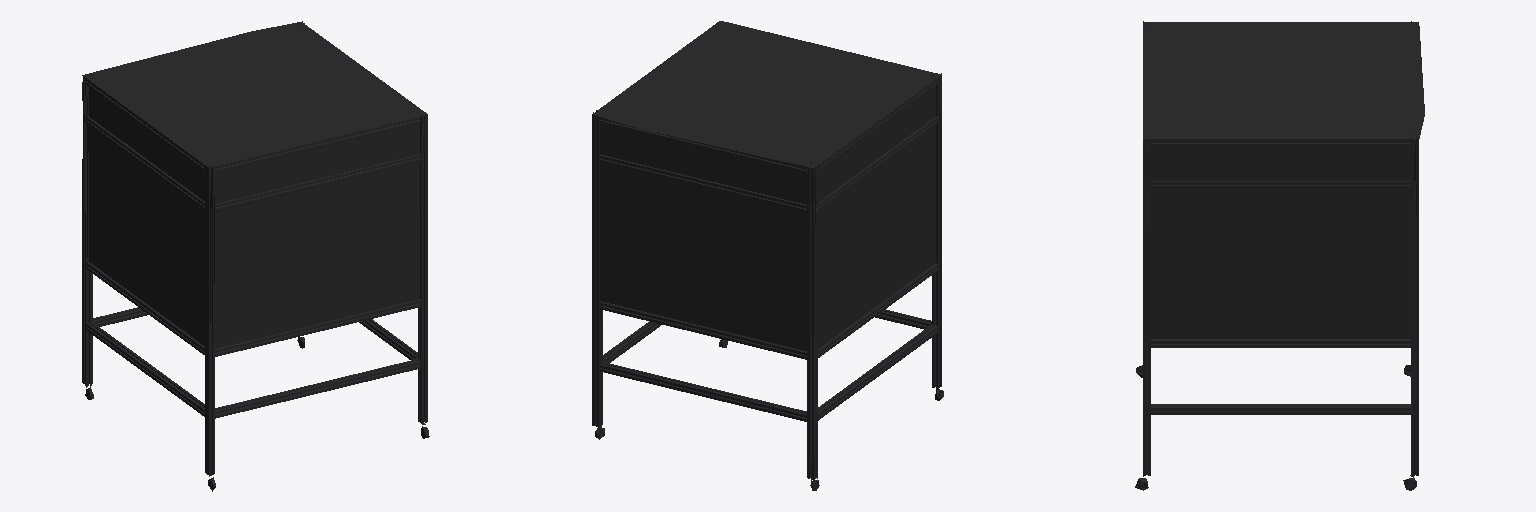
robot.urdf — eva_arm:
<?xml version="1.0" ?>
<!-- 
-   This file has been modified by hand after being created from the 
      eva_with_box_without_rail.xacro file.
-   Box related properties are modified afterwards.
-   Box appears solid in rviz and transparent in Gazebo - use the 
      table_link in case you want to visualize Eva in rviz and gazebo.
-->
<robot name="eva_arm">
    <!-- ros_control plugin -->
    <gazebo>
        <plugin filename="libgazebo_ros_control.so" name="gazebo_ros_control">
            <robotNamespace>/eva</robotNamespace>
            <robotSimType>gazebo_ros_control/DefaultRobotHWSim</robotSimType>
        </plugin>
    </gazebo>

    <!-- Gazebo-specific material settings to force transparency of the box in Gazebo-->
    <gazebo reference="box">
      <material>Gazebo/GreyTransparent</material>
    </gazebo>

    <!-- all the links of the robotic arm -->
    <gazebo reference="link1">
        <mu1>0.5</mu1>
        <mu2>0.5</mu2>
        <selfCollide>true</selfCollide>
    </gazebo>
    <gazebo reference="link2">
        <mu1>0.5</mu1>
        <mu2>0.5</mu2>
        <selfCollide>true</selfCollide>
    </gazebo>
    <gazebo reference="link3">
        <mu1>0.5</mu1>
        <mu2>0.5</mu2>
        <selfCollide>true</selfCollide>
    </gazebo>
    <gazebo reference="link4">
        <mu1>0.5</mu1>
        <mu2>0.5</mu2>
        <selfCollide>true</selfCollide>
    </gazebo>
    <gazebo reference="link5">
        <mu1>0.5</mu1>
        <mu2>0.5</mu2>
        <selfCollide>true</selfCollide>
    </gazebo>
    <gazebo reference="link6">
        <mu1>0.5</mu1>
        <mu2>0.5</mu2>
        <selfCollide>true</selfCollide>
    </gazebo>

    <!-- controllers for the robotic arm -->
    <transmission name="trans_joint01">
        <type>transmission_interface/SimpleTransmission</type>
        <joint name="joint01">
            <hardwareInterface>hardware_interface/EffortJointInterface</hardwareInterface>
        </joint>
        <actuator name="joint01_motor">
            <hardwareInterface>hardware_interface/EffortJointInterface</hardwareInterface>
            <mechanicalReduction>1</mechanicalReduction>
        </actuator>
    </transmission>
    <transmission name="trans_joint12">
        <type>transmission_interface/SimpleTransmission</type>
        <joint name="joint12">
            <hardwareInterface>hardware_interface/EffortJointInterface</hardwareInterface>
        </joint>
        <actuator name="joint12_motor">
            <hardwareInterface>hardware_interface/EffortJointInterface</hardwareInterface>
            <mechanicalReduction>1</mechanicalReduction>
        </actuator>
    </transmission>
    <transmission name="trans_joint23">
        <type>transmission_interface/SimpleTransmission</type>
        <joint name="joint23">
            <hardwareInterface>hardware_interface/EffortJointInterface</hardwareInterface>
        </joint>
        <actuator name="joint23_motor">
            <hardwareInterface>hardware_interface/EffortJointInterface</hardwareInterface>
            <mechanicalReduction>1</mechanicalReduction>
        </actuator>
    </transmission>
    <transmission name="trans_joint34">
        <type>transmission_interface/SimpleTransmission</type>
        <joint name="joint34">
            <hardwareInterface>hardware_interface/EffortJointInterface</hardwareInterface>
        </joint>
        <actuator name="joint34_motor">
            <hardwareInterface>hardware_interface/EffortJointInterface</hardwareInterface>
            <mechanicalReduction>1</mechanicalReduction>
        </actuator>
    </transmission>
    <transmission name="trans_joint45">
        <type>transmission_interface/SimpleTransmission</type>
        <joint name="joint45">
            <hardwareInterface>hardware_interface/EffortJointInterface</hardwareInterface>
        </joint>
        <actuator name="joint45_motor">
            <hardwareInterface>hardware_interface/EffortJointInterface</hardwareInterface>
            <mechanicalReduction>1</mechanicalReduction>
        </actuator>
    </transmission>
    <transmission name="trans_joint56">
        <type>transmission_interface/SimpleTransmission</type>
        <joint name="joint56">
            <hardwareInterface>hardware_interface/EffortJointInterface</hardwareInterface>
        </joint>
        <actuator name="joint56_motor">
            <hardwareInterface>hardware_interface/EffortJointInterface</hardwareInterface>
            <mechanicalReduction>1</mechanicalReduction>
        </actuator>
    </transmission>
    
    <!-- World link -->
    <link name="world"/>

    <!-- box without collision properties {Box height is 0.8m}
         No collision used: 
         As robotic arm is supposed to be inside the box, it is always in 
         collision with the box and never stays intact in Gazebo 
    -->

    <link name="box">
      <visual>
        <origin rpy="1.5707963267948966 0 0" xyz="0 0 0"/>
        <geometry>
          <mesh filename="package://eva_description/meshes/box.dae"/>
        </geometry>
        <material name="semi_transparent_material">
          <color rgba="0.2 0.2 0.2 0"/>
        </material>
      </visual>
      <inertial>
        <origin rpy="1.5707963267948966 0 0" xyz="0 0 0"/>
        <mass value="1.0"/>
        <inertia ixx="0.01" ixy="0.0" ixz="0.0" iyy="0.01" iyz="0.0" izz="0.01"/>
      </inertial>
    </link>

    <joint name="connect_world_and_box" type="fixed">
      <child link="box"/>
      <parent link="world"/>
      <origin rpy="0 0 0" xyz="0 0 0"/>
    </joint>

<!-- Table link: 
-    It could be used instead of the box for visualization in rviz 
-->
  <!-- <link name="table_link">
    <visual>
      <origin rpy="0 0 0" xyz="0 0.75 0.8"/> 
      <geometry>
        <box size="2.0 1.5 0.05"/> 
      </geometry>
      <material name="wood">
        <color rgba="0.55 0.27 0.07 0.1"/> 
      </material>
    </visual>
    <inertial>
      <origin rpy="0 0 0" xyz="0 0.75 0.8"/> 
      <mass value="10.0"/> 
      <inertia ixx="0.1" ixy="0.0" ixz="0.0" iyy="0.1" iyz="0.0" izz="0.1"/> 
    </inertial>
  </link>

  <joint name="world_to_table_joint" type="fixed">
    <parent link="world"/>
    <child link="table_link"/>
    <origin xyz="0.0 0.0 0.0" rpy="0 0 0"/> 
  </joint>

  <gazebo reference="table_link">
      <material>Gazebo/GreyTransparent</material>
  </gazebo> -->

  <!-- Table link properties ends here -->

    <!-- All the links and joints of the Robotic Arm -->
    <link name="base_link">
      <gravity>0</gravity>
      <inertial>
        <origin rpy="0 0 0" xyz="-0.00079256 0.072247 -4.2906E-06" />
        <mass value="2.2163" />
        <inertia ixx="0.0065308" ixy="-2.9126E-05" ixz="-1.2386E-06" iyy="0.0051738" iyz="-5.4387E-07" izz="0.0065939" />
      </inertial>
      <visual>
        <origin rpy="0 0 0" xyz="0 0 0" />
        <geometry>
          <mesh filename="package://eva_description/meshes/base_link.STL" />
        </geometry>
        <material name="">
          <color rgba="0.79216 0.81961 0.93333 1" />
        </material>
      </visual>
      <collision>
        <origin rpy="0 0 0" xyz="0 0 0" />
        <geometry>
          <mesh filename="package://eva_description/meshes/base_link.STL" />
        </geometry>
      </collision>
    </link>

    <joint name="box_to_base_link" type="fixed">
      <origin rpy="0 0 0" xyz="-0.3 0.7 0.8" /> 
       <parent link="box" />  <!-- change "box" to "table_link" -->
      <child link="base_link" />
    </joint>

    <link name="link1">
        <gravity>0</gravity>
        <inertial>
            <origin rpy="0 0 0" xyz="0.033792 0.10158 0.028608" />
            <mass value="1.3679" />
            <inertia ixx="0.0024595" ixy="-0.0008869" ixz="-0.00013245" iyy="0.0021904" iyz="-0.00017806" izz="0.00385" />
        </inertial>
        <visual>
            <origin rpy="0 0 0" xyz="0 0 0" />
            <geometry>
                <mesh filename="package://eva_description/meshes/link1.STL" />
            </geometry>
            <material name="">
                <color rgba="0.79216 0.81961 0.93333 1" />
            </material>
        </visual>
        <collision>
            <origin rpy="0 0 0" xyz="0 0 0" />
            <geometry>
                <mesh filename="package://eva_description/meshes/link1.STL" />
            </geometry>
        </collision>
    </link>
    <joint name="joint01" type="revolute">
        <origin rpy="1.5708 0 0" xyz="0 0 0.151" />
        <parent link="base_link" />
        <child link="link1" />
        <axis xyz="0 1 0" />
        <limit effort="100" lower="-3.12414" upper="3.12414" velocity="2.16" />
        <dynamics damping="0.8" friction="10" />
    </joint>

    <link name="link2">
        <gravity>0</gravity>
        <inertial>
            <origin rpy="0 0 0" xyz="-0.011054 0.095532 -0.041105" />
            <mass value="2.1464" />
            <inertia ixx="0.019567" ixy="0.00037463" ixz="0.00015985" iyy="0.0033754" iyz="-7.8572E-05" izz="0.021425" />
        </inertial>
        <visual>
            <origin rpy="0 0 0" xyz="0 0 0" />
            <geometry>
                <mesh filename="package://eva_description/meshes/link2.STL" />
            </geometry>
            <material name="">
                <color rgba="0.79216 0.81961 0.93333 1" />
            </material>
        </visual>
        <collision>
            <origin rpy="0 0 0" xyz="0 0 0" />
            <geometry>
                <mesh filename="package://eva_description/meshes/link2.STL" />
            </geometry>
        </collision>
    </link>
    <joint name="joint12" type="revolute">
        <origin rpy="0 0 0" xyz="0.056 0.1323 0" />
        <parent link="link1" />
        <child link="link2" />
        <axis xyz="0 0 1" />
        <limit effort="150" lower="-2.70526" upper="1.22173" velocity="1.0" />
        <dynamics damping="0.8" friction="10" />
    </joint>

    <link name="link3">
        <gravity>0</gravity>
        <inertial>
            <origin rpy="0 0 0" xyz="-0.017599 0.021043 0.028835" />
            <mass value="1.0412" />
            <inertia ixx="0.0014019" ixy="0.0004906" ixz="-9.7827E-05" iyy="0.0013971" iyz="0.00010907" izz="0.0022277" />
        </inertial>
        <visual>
            <origin rpy="0 0 0" xyz="0 0 0" />
            <geometry>
                <mesh filename="package://eva_description/meshes/link3.STL" />
            </geometry>
            <material name="">
                <color rgba="0.79216 0.81961 0.93333 1" />
            </material>
        </visual>
        <collision>
            <origin rpy="0 0 0" xyz="0 0 0" />
            <geometry>
                <mesh filename="package://eva_description/meshes/link3.STL" />
            </geometry>
        </collision>
    </link>
    <joint name="joint23" type="revolute">
        <origin rpy="0 0 0" xyz="0 0.205 0" />
        <parent link="link2" />
        <child link="link3" />
        <axis xyz="0 0 1" />
        <limit effort="100" lower="-2.79253" upper="0.785398" velocity="1" />
        <dynamics damping="0.8" friction="10" />
    </joint>

    <link name="link4">
        <gravity>0</gravity>
        <inertial>
            <origin rpy="0 0 0" xyz="6.3485E-05 0.082453 -0.0083688" />
            <mass value="1.2151" />
            <inertia ixx="0.0030376" ixy="-7.1559E-06" ixz="8.224E-07" iyy="0.0010632" iyz="0.00042179" izz="0.0034635" />
        </inertial>
        <visual>
            <origin rpy="0 0 0" xyz="0 0 0" />
            <geometry>
                <mesh filename="package://eva_description/meshes/link4.STL" />
            </geometry>
            <material name="">
                <color rgba="0.79216 0.81961 0.93333 1" />
            </material>
        </visual>
        <collision>
            <origin rpy="0 0 0" xyz="0 0 0" />
            <geometry>
                <mesh filename="package://eva_description/meshes/link4.STL" />
            </geometry>
        </collision>
    </link>
    <joint name="joint34" type="revolute">
        <origin rpy="3.1416 0 3.1416" xyz="-0.056 0.09401 0" />
        <parent link="link3" />
        <child link="link4" />
        <axis xyz="0 1 0" />
        <limit effort="30" lower="-3.12414" upper="3.12414" velocity="1" />
        <dynamics damping="0.8" friction="10" />
    </joint>

    <link name="link5">
        <gravity>0</gravity>
        <inertial>
            <origin rpy="0 0 0" xyz="0.033633 0.0068289 0.0038977" />
            <mass value="1.1633" />
            <inertia ixx="0.0014093" ixy="-7.9912E-05" ixz="1.6075E-05" iyy="0.00064393" iyz="7.6612E-06" izz="0.0012682" />
        </inertial>
        <visual>
            <origin rpy="0 0 0" xyz="0 0 0" />
            <geometry>
                <mesh filename="package://eva_description/meshes/link5.STL" />
            </geometry>
            <material name="">
                <color rgba="0.79216 0.81961 0.93333 1" />
            </material>
        </visual>
        <collision>
            <origin rpy="0 0 0" xyz="0 0 0" />
            <geometry>
                <mesh filename="package://eva_description/meshes/link5.STL" />
            </geometry>
        </collision>
    </link>
    <joint name="joint45" type="revolute">
        <origin rpy="0 0 0" xyz="0 0.1966 0" />
        <parent link="link4" />
        <child link="link5" />
        <axis xyz="0 0 1" />
        <limit effort="45" lower="-0.174533" upper="2.70526" velocity="1" />
        <dynamics damping="0.8" friction="10" />
    </joint>

    <link name="link6">
        <gravity>0</gravity>
        <inertial>
            <origin rpy="0 0 0" xyz="0.00010738 0.012024 3.1104E-05" />
            <mass value="0.089988" />
            <inertia ixx="3.1549E-05" ixy="9.9188E-08" ixz="-3.6831E-08" iyy="5.6401E-05" iyz="-1.5979E-09" izz="3.1789E-05" />
        </inertial>
        <visual>
            <origin rpy="0 0 0" xyz="0 0 0" />
            <geometry>
                <mesh filename="package://eva_description/meshes/link6.STL" />
            </geometry>
            <material name="">
                <color rgba="0.79216 0.81961 0.93333 1" />
            </material>
        </visual>
        <collision>
            <origin rpy="0 0 0" xyz="0 0 0" />
            <geometry>
                <mesh filename="package://eva_description/meshes/link6.STL" />
            </geometry>
        </collision>
    </link>
    <joint name="joint56" type="revolute">
        <origin rpy="0 0 0" xyz="0.065 0.0741 0" />
        <parent link="link5" />
        <child link="link6" />
        <axis xyz="0 1 0" />
        <limit effort="30" lower="-3.12414" upper="3.12414" velocity="1" />
        <dynamics damping="0.8" friction="10" />
    </joint>

    <link name="light_link">
        <gravity>0</gravity>
        <inertial>
            <origin rpy="0 0 0" xyz="0.000 0.0 0.0" />
            <mass value="0.089988" />
            <inertia ixx="3.1549E-05" ixy="9.9188E-08" ixz="-3.6831E-08" iyy="5.6401E-05" iyz="-1.5979E-09" izz="3.1789E-05" />
        </inertial>
        <visual>
            <origin rpy="0 0 0" xyz="0 0 0" />
            <geometry>
                <!-- filename="package://eva_description/meshes/light_assembly.STL" /> -->
                <mesh filename="package://eva_description/meshes/Led_plate_assembly.STL" scale="0.001 0.001 0.001" />
            </geometry>
            <material name="">
                <color rgba="0.79216 0.81961 0.93333 1" />
            </material>
        </visual>
        <collision>
            <origin rpy="0 0 0" xyz="0 0 0" />
            <geometry>
                <!-- filename="package://eva_description/meshes/light_assembly.STL" /> -->
                <mesh filename="package://eva_description/meshes/Led_plate_assembly.STL" scale="0.001 0.001 0.001" />
            </geometry>
        </collision>
    </link>
    <joint name="joint67" type="fixed">
        <!-- <origin xyz="0.12 0.025 -0.0325" rpy="-${pi/2} ${pi} 0.0" /> -->
        <origin rpy="-1.5707963267948966 0.0 0.0" xyz="-0.025 0.028 0.025" />
        <parent link="link6" />
        <child link="light_link" />
    </joint>

    <link name="ee_link" />
    <joint name="ee_link_joint" type="fixed">
        <origin rpy="-1.5707963267948966 3.141592653589793 0" xyz="0.11 0.025 0.06" />
        <!-- <origin xyz="0.05 0.03 0.175" rpy="-${pi/2} ${pi} 0.0"/> -->
        <parent link="light_link" />
        <child link="ee_link" />
    </joint>
</robot>

--- What the picture shows (computed from the rendered views, not written in the file) ---
3 views of the same robot in one strip: view 1: azimuth 30°, elevation 25°; view 2: azimuth 150°, elevation 25°; view 3: azimuth 270°, elevation 25° (orthographic).
Robot: eva_arm — 11 links, 10 joints (6 revolute, 4 fixed); root link world; default pose: all joints at 0.
Links seen in each view (by area): view 1: box; view 2: box; view 3: box.
Boxes of the visible links, box(x1,y1,x2,y2) form: box: box(82, 21, 429, 491); box: box(592, 21, 943, 490); box: box(1135, 21, 1424, 490).
Bounding box of the posed robot: 1.49 × 1.57 × 2.12 m (x, y, z).
9 mesh visuals loaded from 9 distinct referenced files (8 binary STL, 1 Collada DAE).
